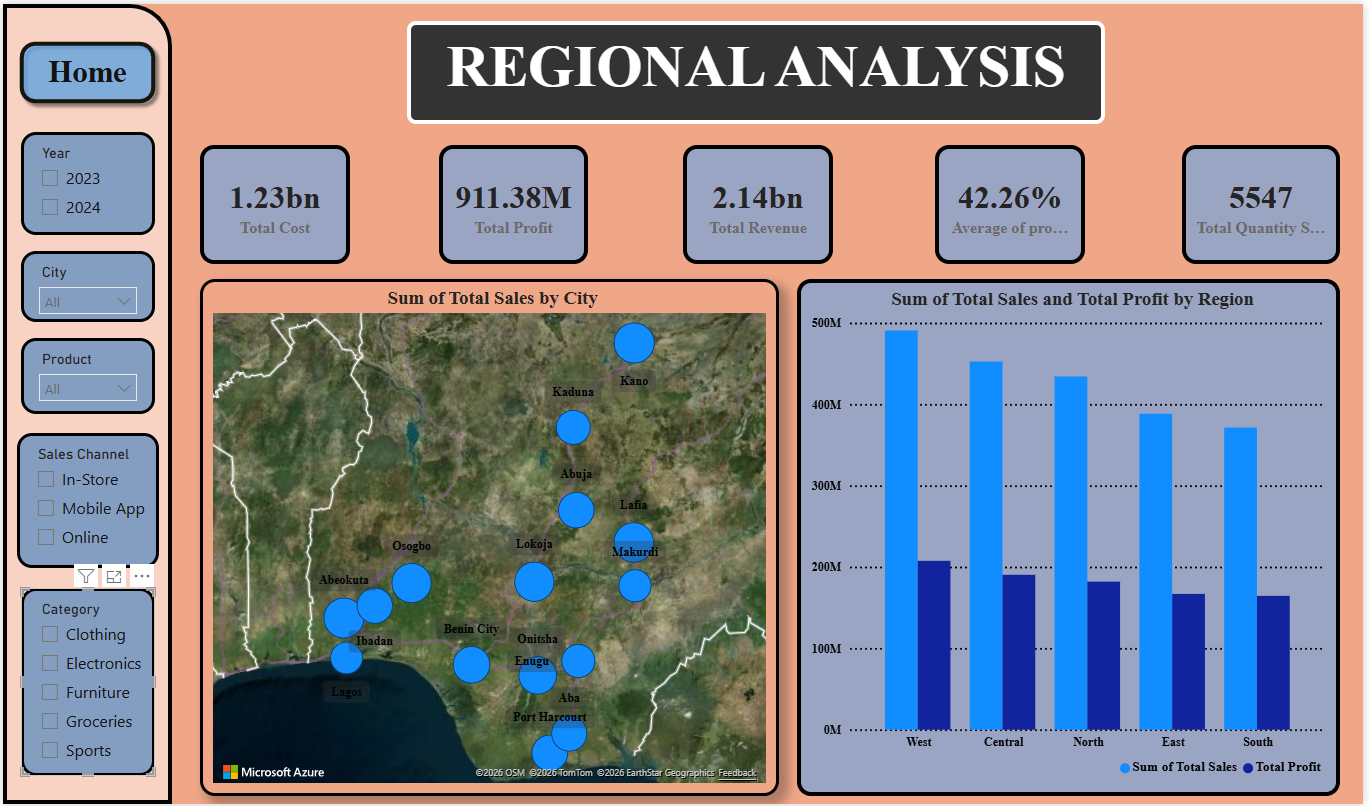

The dashboard page shown, as its layout file describes it:
{"tool":"powerbi","page":{"name":"Regional Analysis","canvas":[1360,800],"ordinal":3},"visuals":[{"type":"azureMap","fields":{"Category":["📦 Raw Data.City"],"Size":["Sum(📦 Raw Data.Total_Sales_NGN)"]},"box":[197,275,579,517],"z":0},{"type":"clusteredColumnChart","title":"Sum of Total Sales and Total Profit by Region","fields":{"Y":["Sum(📦 Raw Data.Total_Sales_NGN)","📦 Raw Data.Total Profit"],"Category":["📦 Raw Data.Region"]},"box":[794,275,543,517],"z":1000},{"type":"card","fields":{"Values":["📦 Raw Data.Total Cost"]},"box":[197,141,150,119],"z":2000},{"type":"card","fields":{"Values":["📦 Raw Data.Total Profit"]},"box":[436,141,149,119],"z":3000},{"type":"card","fields":{"Values":["📦 Raw Data.Total Quantity Sold"]},"box":[1179,141,158,119],"z":4000},{"type":"card","fields":{"Values":["📦 Raw Data.Total Revenue"]},"box":[680,141,150,119],"z":5000},{"type":"card","fields":{"Values":["Avg(📦 Raw Data.Proit Margin)"]},"box":[932,141,150,119],"z":6000},{"type":"shape","box":[0,0,169,800],"z":7000},{"type":"pageNavigator","box":[9,30,151,77],"z":8000},{"type":"slicer","fields":{"Values":["📦 Raw Data.City"]},"box":[18,247,134,71],"z":9000},{"type":"slicer","fields":{"Values":["📦 Raw Data.Product"]},"box":[18,334,134,76],"z":10000},{"type":"slicer","fields":{"Values":["📦 Raw Data.Sales Channel"]},"box":[14,429,142,135],"z":11000},{"type":"slicer","fields":{"Values":["DIM_Date.Year"]},"box":[18,128,134,103],"z":12000},{"type":"textbox","box":[404,17,698,103],"z":13000},{"type":"slicer","fields":{"Values":["📦 Raw Data.Category"]},"box":[18,584,134,188],"z":14000}]}

Visuals, with their boxes in screenshot pixels (x1, y1, x2, y2), scaled from the page's 1360x800 canvas onto the 1369x806 screenshot:
azureMap - 📦 Raw Data.City x Sum(📦 Raw Data.Total_Sales_NGN): select_region(198, 277, 781, 798)
"Sum of Total Sales and Total Profit by Region" clusteredColumnChart: select_region(799, 277, 1346, 798)
card - 📦 Raw Data.Total Cost: select_region(198, 142, 349, 262)
card - 📦 Raw Data.Total Profit: select_region(439, 142, 589, 262)
card - 📦 Raw Data.Total Quantity Sold: select_region(1187, 142, 1346, 262)
card - 📦 Raw Data.Total Revenue: select_region(684, 142, 835, 262)
card - Avg(📦 Raw Data.Proit Margin): select_region(938, 142, 1089, 262)
shape: select_region(0, 0, 170, 805)
pageNavigator: select_region(9, 30, 161, 108)
slicer - 📦 Raw Data.City: select_region(18, 249, 153, 320)
slicer - 📦 Raw Data.Product: select_region(18, 337, 153, 413)
slicer - 📦 Raw Data.Sales Channel: select_region(14, 432, 157, 568)
slicer - DIM_Date.Year: select_region(18, 129, 153, 233)
textbox: select_region(407, 17, 1109, 121)
slicer - 📦 Raw Data.Category: select_region(18, 588, 153, 778)
